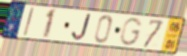0: (93, 14, 114, 44)
1: (43, 7, 59, 41)
7: (142, 19, 166, 49)
G: (119, 17, 144, 47)
I: (21, 7, 35, 38)
J: (71, 12, 93, 41)
